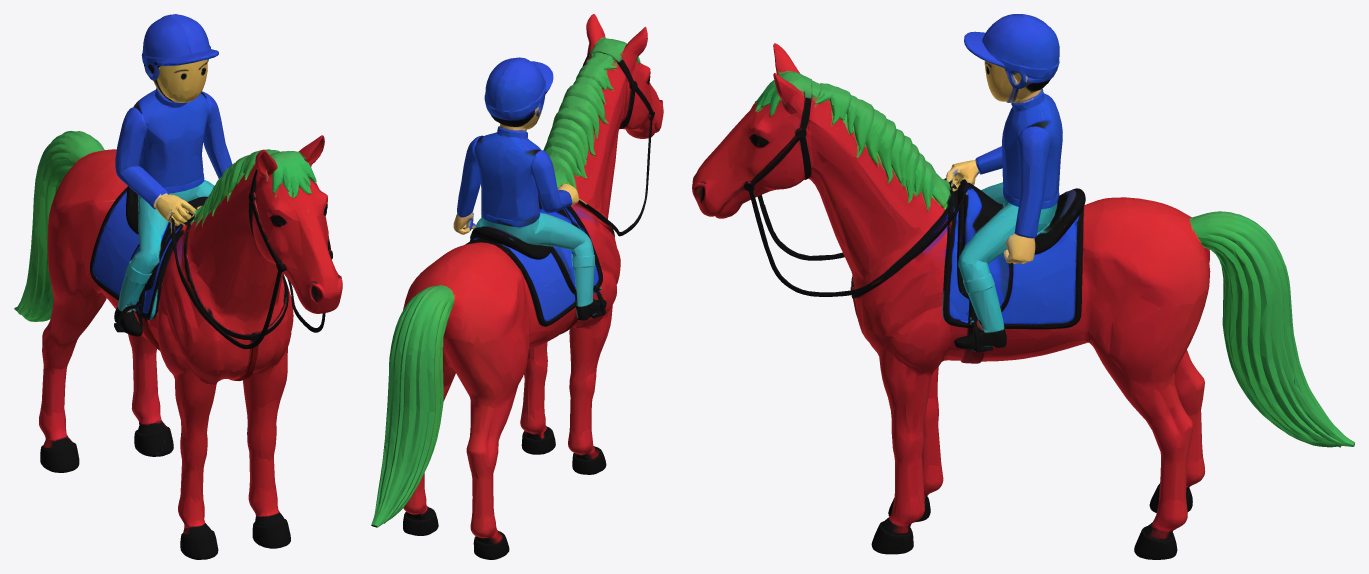
Rendered from meshy-padrao-lisa.glb.
The picture shows the model from 3 angles, left to right: view 1: azimuth 30°, elevation 25°; view 2: azimuth 150°, elevation 25°; view 3: azimuth 270°, elevation 25°; orthographic projection. The views are drawn at different scales.
Bounding box in the file's own units: 0.5614 × 1.63 × 1.9.
Materials: 1 (1 with a texture image).
